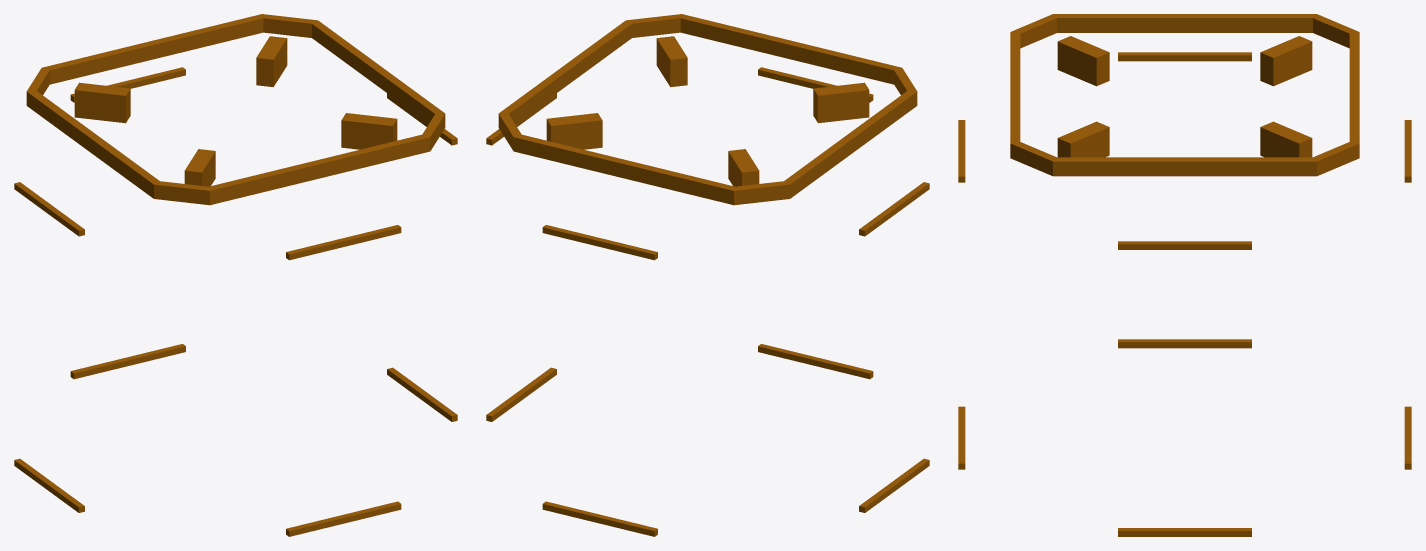
The model's file is jiagu3.fbx.
The picture shows the model from 3 angles, left to right: view 1: azimuth 30°, elevation 25°; view 2: azimuth 150°, elevation 25°; view 3: azimuth 270°, elevation 25°; orthographic projection. The views are drawn at different scales.
Visible parts, largest first — view 1: 立方体.034; view 2: 立方体.034; view 3: 立方体.034.
Boxes of the visible parts, <box> form: 立方体.034: <box>14,14,457,536</box>; 立方体.034: <box>486,14,929,536</box>; 立方体.034: <box>958,14,1411,536</box>.
Bounding box in the file's own units: 82.35 × 70.79 × 82.35.
